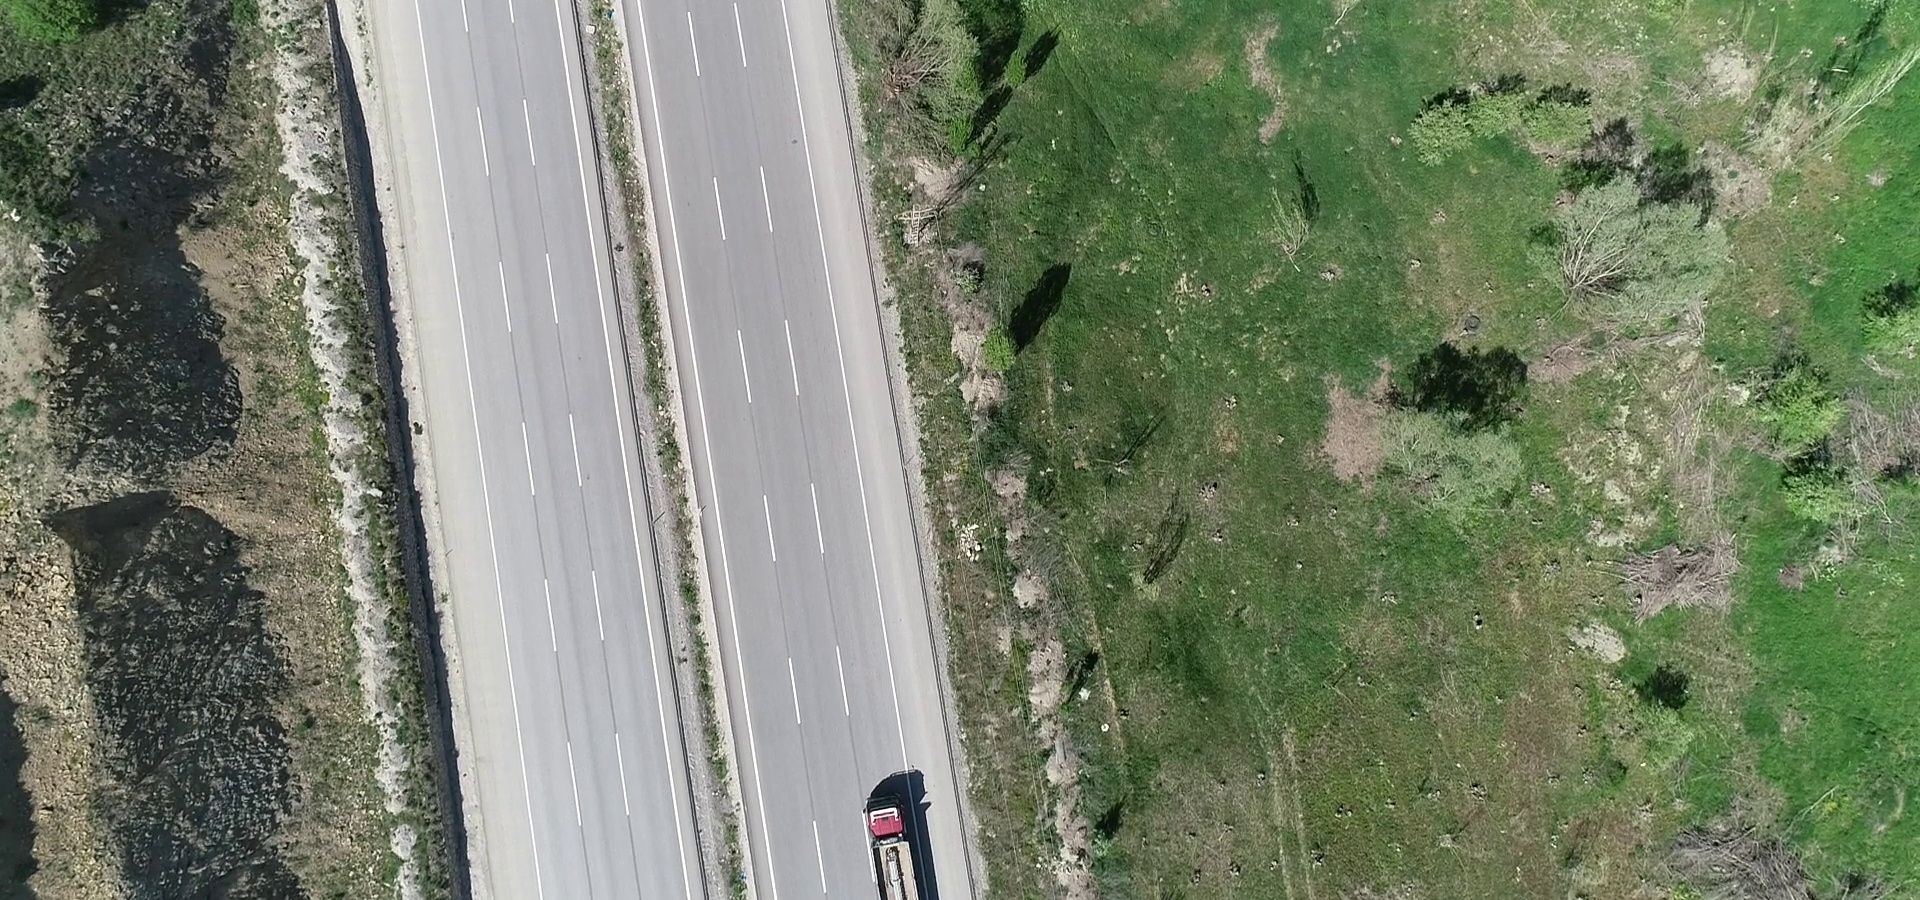kamyon: (853, 800, 924, 900)
